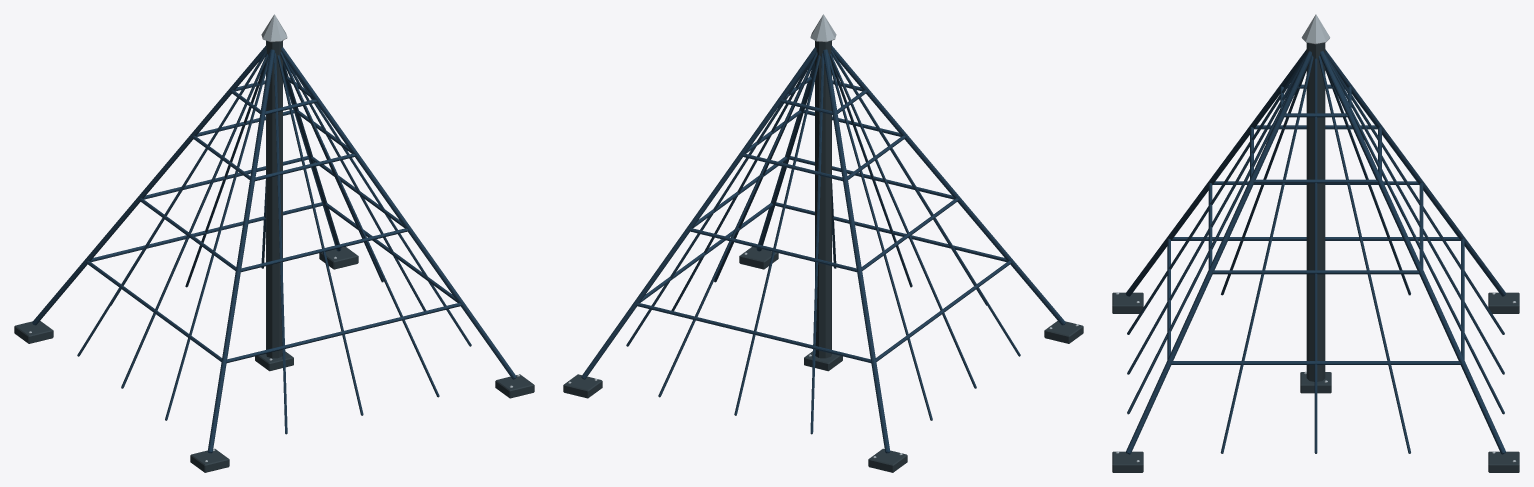
The model's file is b09_rope_pyramid.glb.
The picture shows the model from 3 angles, left to right: view 1: azimuth 30°, elevation 25°; view 2: azimuth 150°, elevation 25°; view 3: azimuth 270°, elevation 25°; orthographic projection. The views are drawn at different scales.
Visible parts, largest first — view 1: b09_rope_pyramid; view 2: b09_rope_pyramid; view 3: b09_rope_pyramid.
Part boxes in pixels (bbox=[...]): b09_rope_pyramid: bbox=[14, 14, 534, 472]; b09_rope_pyramid: bbox=[563, 14, 1083, 472]; b09_rope_pyramid: bbox=[1112, 14, 1519, 472].
Bounding box in the file's own units: 2.86 × 2.89 × 2.86.
